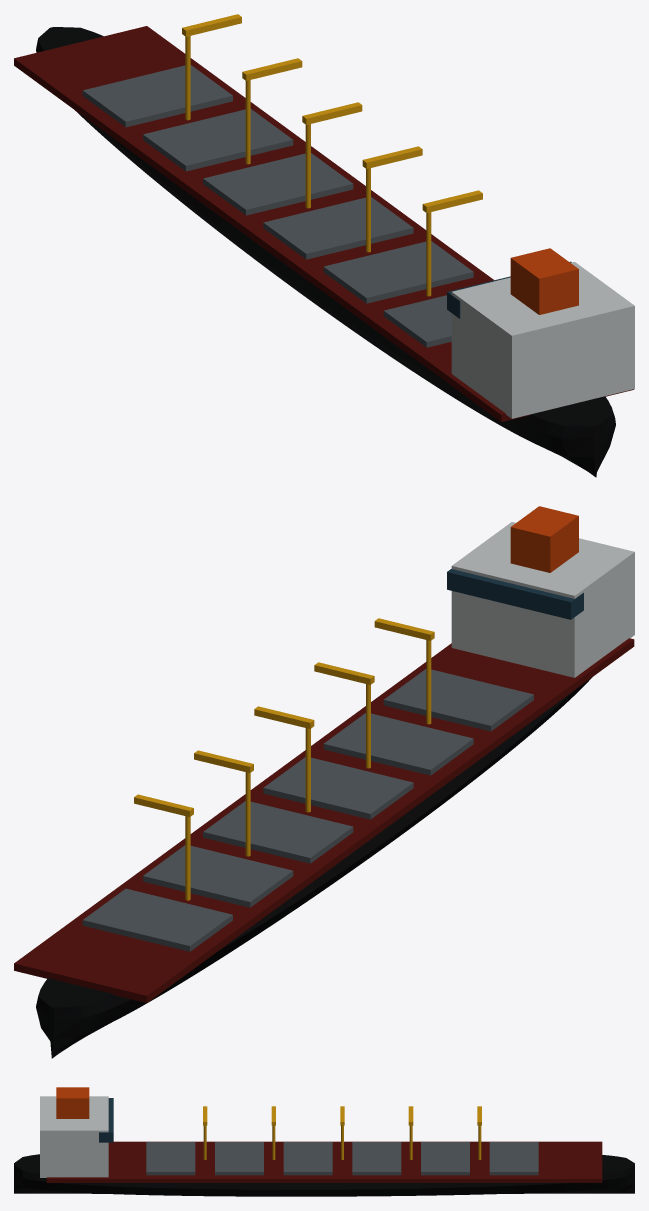
File: modern_bulk_carrier.obj
The picture shows the model from 3 angles, top to bottom: view 1: azimuth 30°, elevation 25°; view 2: azimuth 150°, elevation 25°; view 3: azimuth 270°, elevation 25°; orthographic projection. The views are drawn at different scales.
Visible parts, largest first — view 1: cargo_hatches, weather_deck, superstructure, hull, funnel, crane_booms, deck_cranes; view 2: cargo_hatches, weather_deck, superstructure, hull, funnel, crane_booms, bridge, deck_cranes; view 3: weather_deck, cargo_hatches, hull, superstructure, funnel, deck_cranes, crane_booms, bridge.
Part boxes in pixels (x1,y1,x2,y2): cargo_hatches: [82, 65, 473, 347]; weather_deck: [14, 26, 634, 421]; superstructure: [451, 262, 634, 418]; hull: [36, 27, 615, 477]; funnel: [510, 248, 578, 314]; crane_booms: [182, 14, 482, 212]; deck_cranes: [185, 36, 431, 296]; cargo_hatches: [82, 669, 533, 951]; weather_deck: [14, 638, 634, 1002]; superstructure: [451, 522, 634, 677]; hull: [36, 677, 592, 1058]; funnel: [510, 506, 578, 572]; crane_booms: [134, 618, 434, 816]; bridge: [447, 569, 583, 619]; deck_cranes: [185, 640, 431, 900]; weather_deck: [46, 1141, 602, 1182]; cargo_hatches: [146, 1142, 538, 1175]; hull: [14, 1154, 634, 1196]; superstructure: [40, 1096, 108, 1177]; funnel: [56, 1087, 89, 1118]; deck_cranes: [203, 1125, 481, 1159]; crane_booms: [203, 1106, 481, 1125]; bridge: [99, 1098, 113, 1142].
Size of the model in its own units: 28 by 34 by 190.
